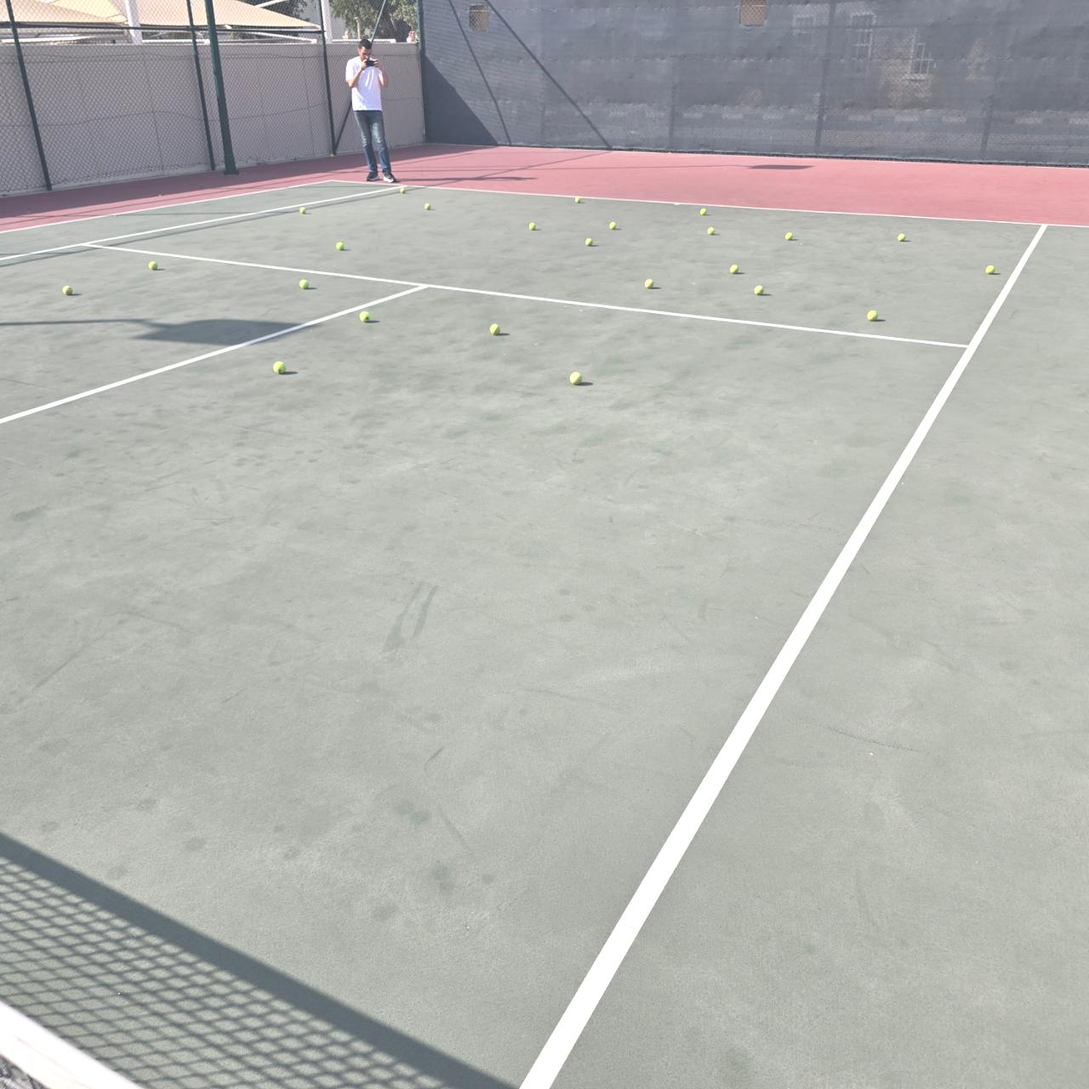tennis-ball: (570, 369, 583, 384), (272, 361, 286, 374), (489, 321, 502, 335), (867, 310, 879, 322), (359, 311, 371, 323), (985, 264, 995, 275), (644, 278, 654, 289), (299, 279, 310, 289), (62, 285, 73, 295), (754, 284, 764, 294), (730, 264, 739, 274), (148, 261, 158, 270), (897, 233, 906, 242), (784, 232, 793, 241), (585, 238, 593, 247), (336, 242, 344, 251), (707, 227, 715, 235), (529, 222, 536, 231), (299, 206, 306, 215), (700, 207, 707, 215), (609, 222, 616, 230), (574, 196, 581, 204), (424, 203, 431, 211), (399, 187, 405, 194), (330, 153, 335, 158)
